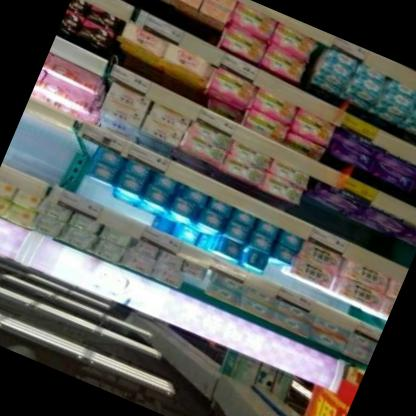empty_space: (13, 115, 72, 184), (56, 136, 98, 196), (0, 110, 34, 169)
